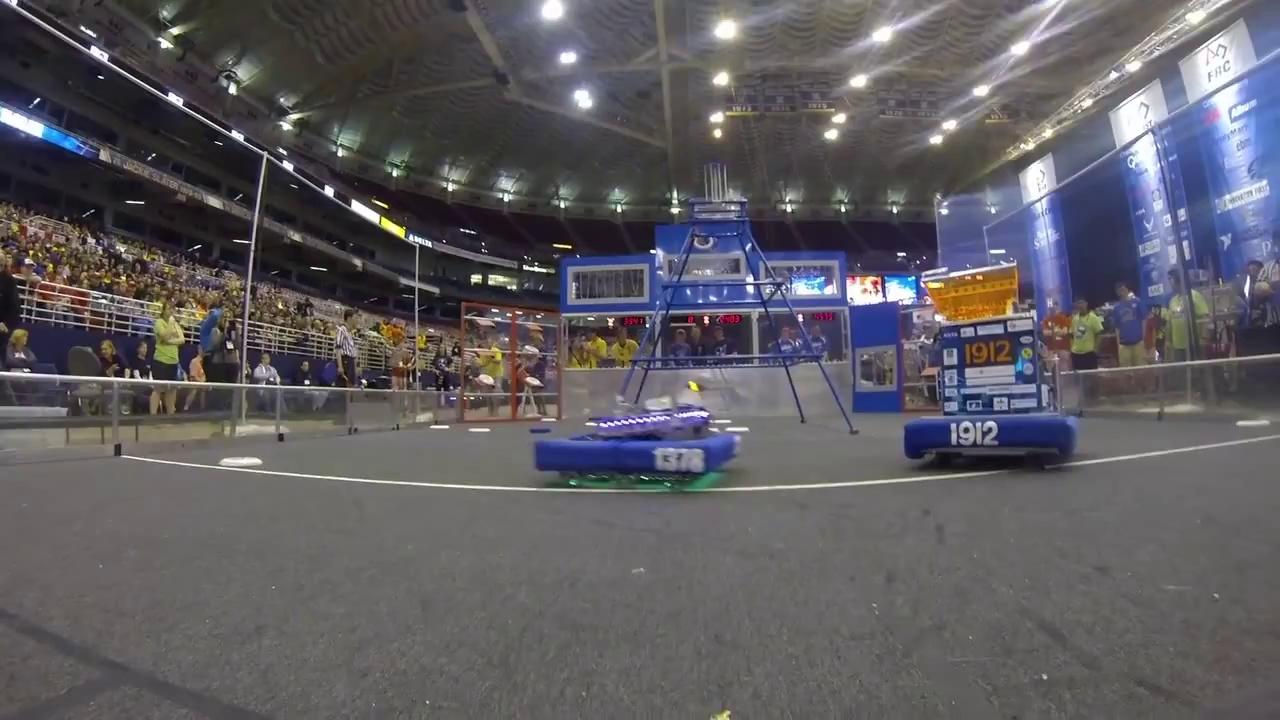robot: (903, 262, 1079, 472), (535, 387, 752, 492)
